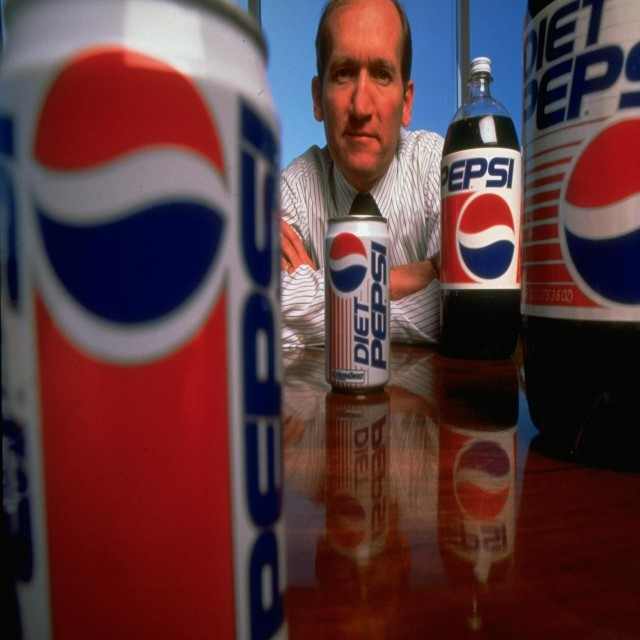pepsi: (114, 41, 229, 294), (460, 192, 518, 283), (327, 229, 369, 300)
